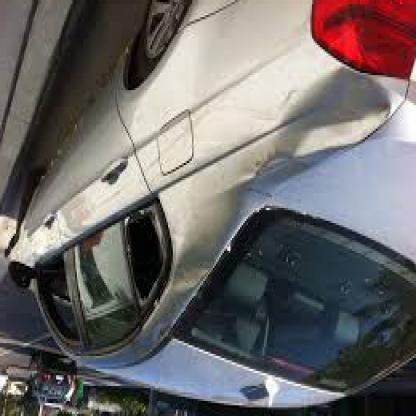dent: (272, 72, 382, 162)
